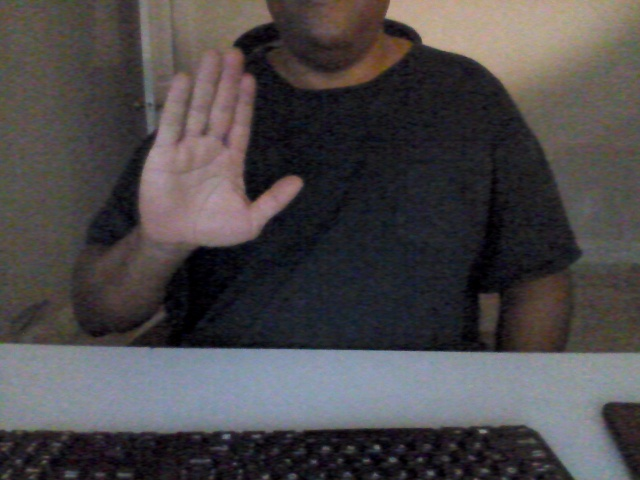hello: (136, 41, 306, 255)
